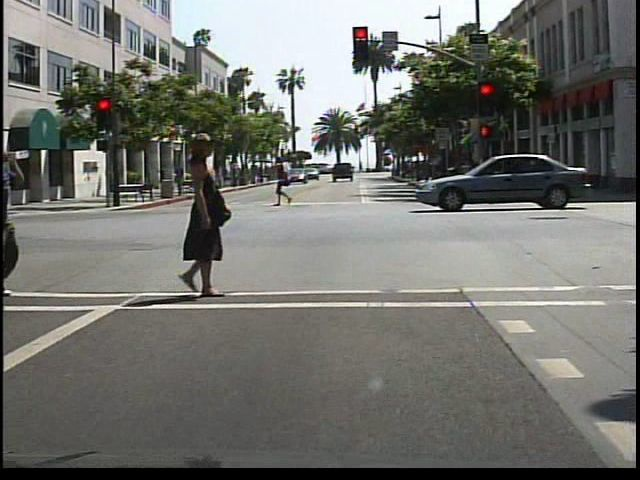person: (173, 134, 261, 300), (1, 143, 27, 302), (272, 158, 300, 209), (172, 163, 192, 199)
